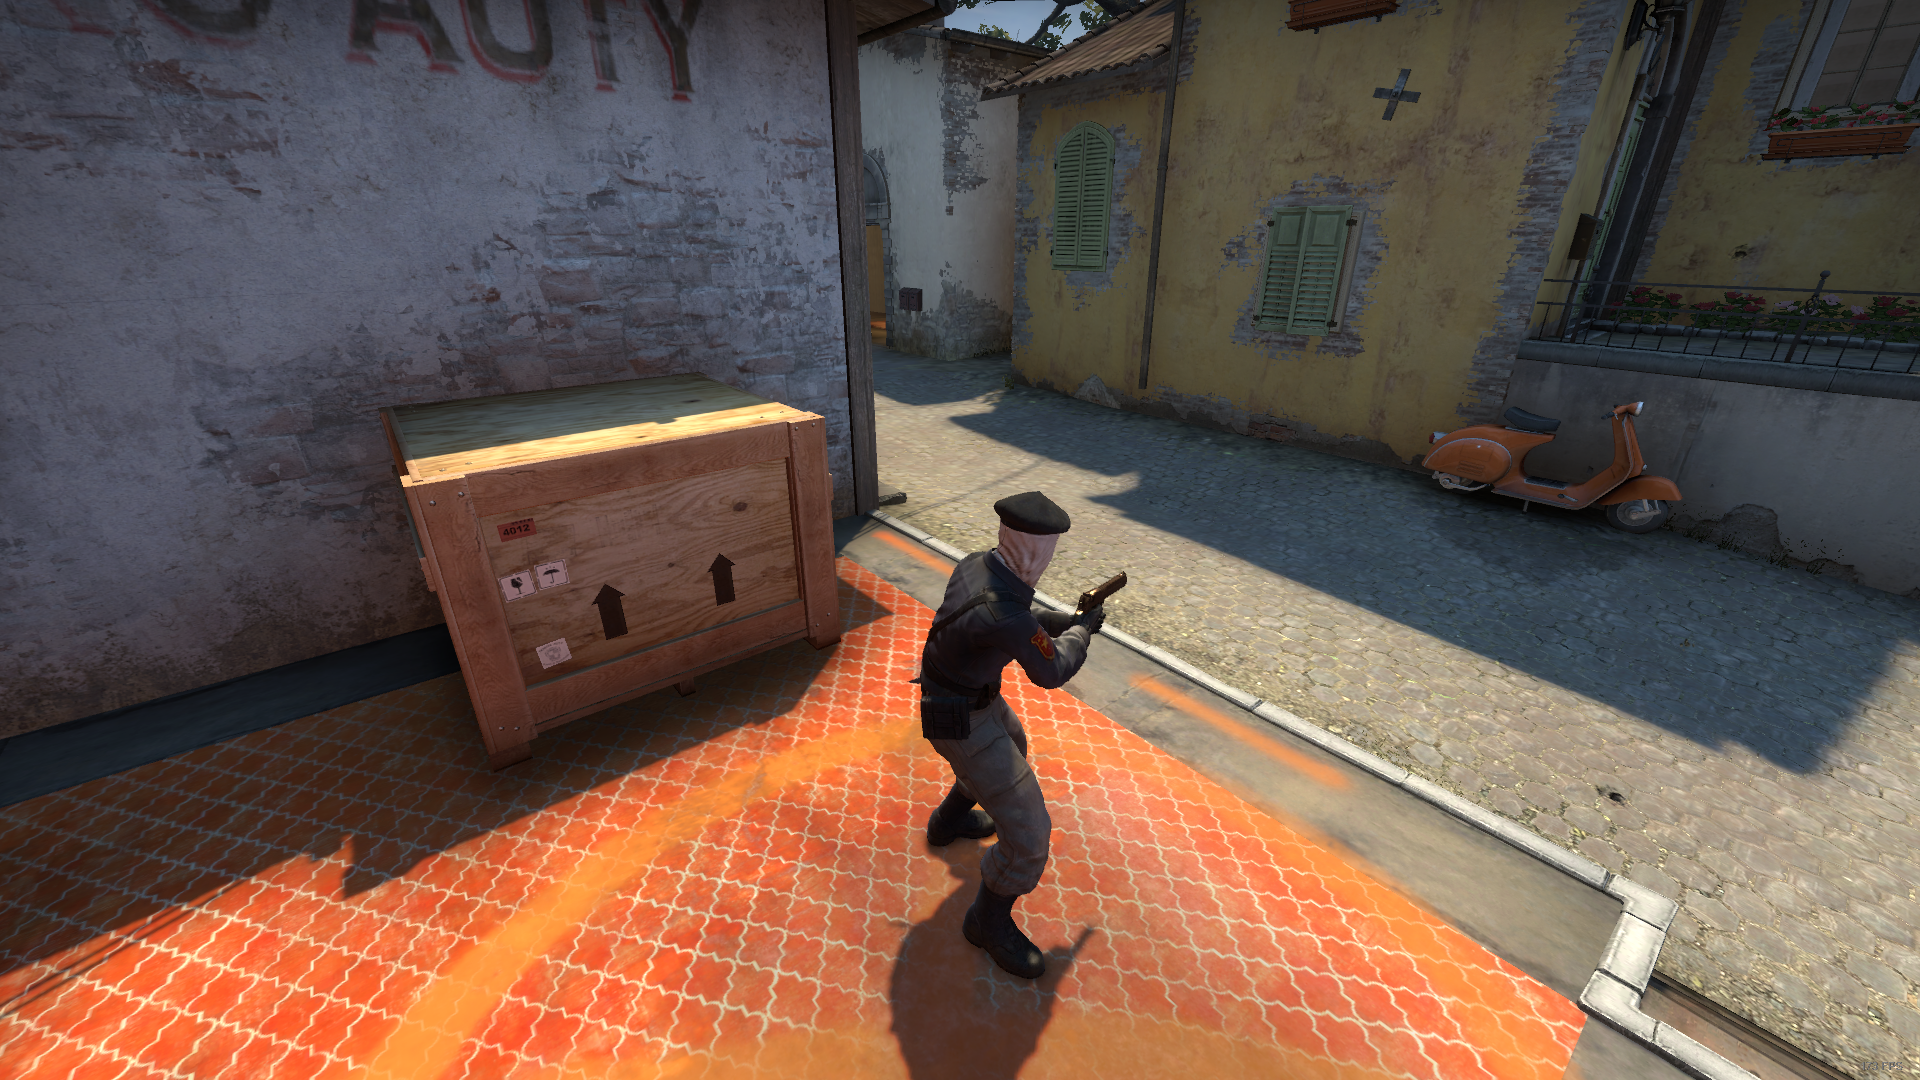t: (891, 483, 1116, 1000)
